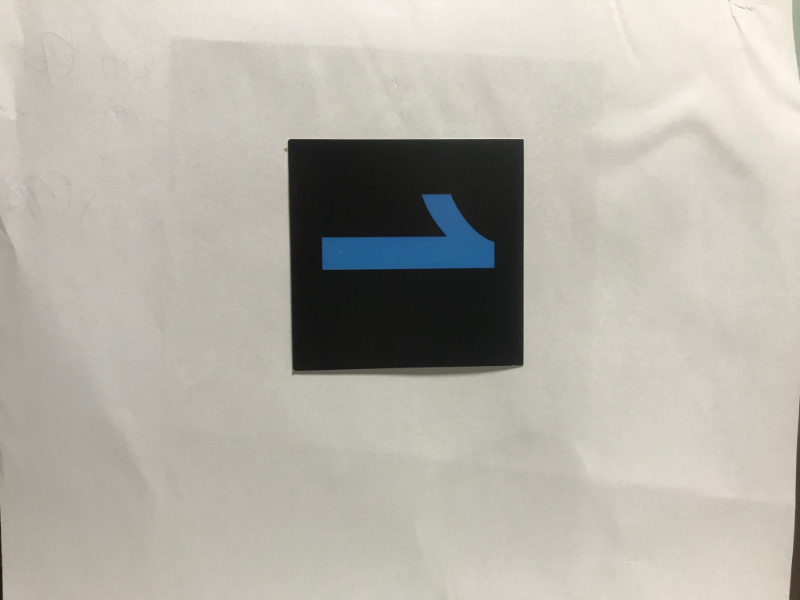One-6: (297, 145, 516, 361)
